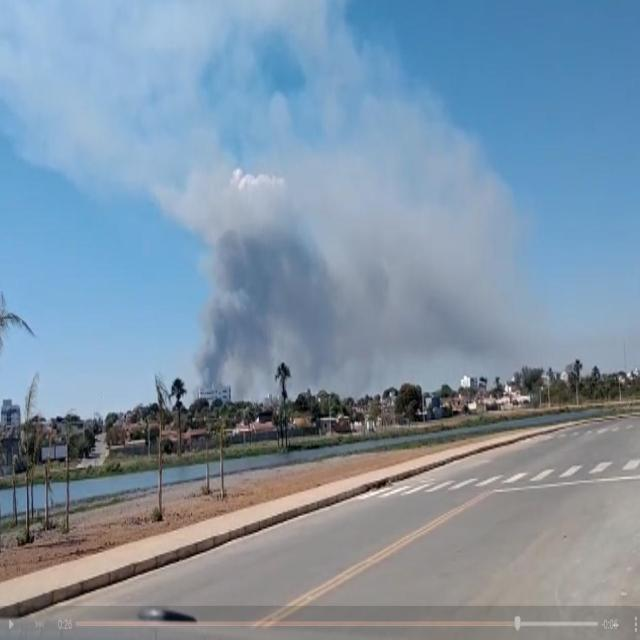Smoke: (144, 85, 580, 392)
